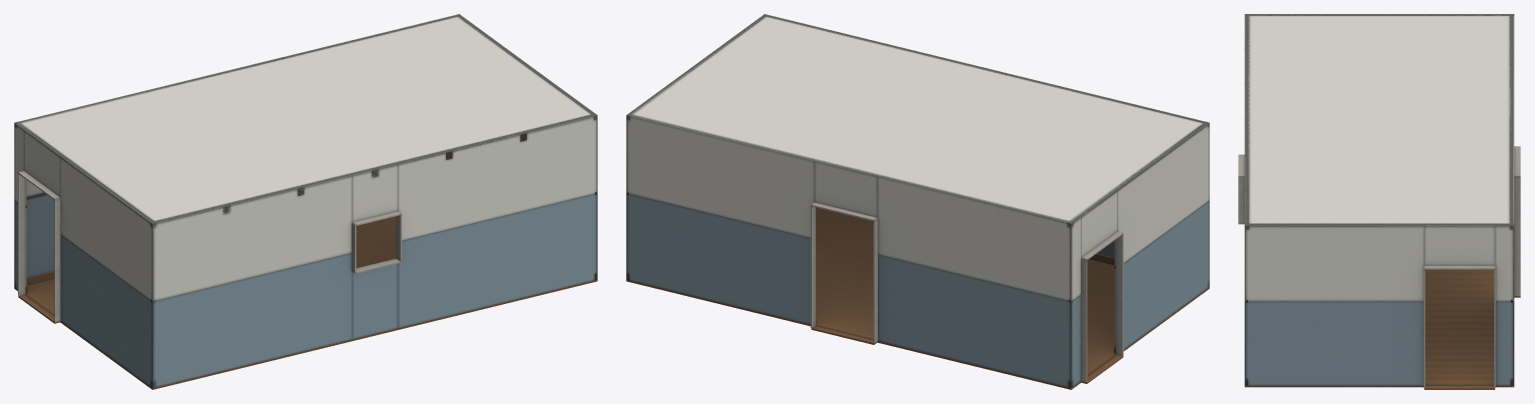
The model's file is house_int_corridor.glb.
The picture shows the model from 3 angles, left to right: view 1: azimuth 30°, elevation 25°; view 2: azimuth 150°, elevation 25°; view 3: azimuth 270°, elevation 25°; orthographic projection. The views are drawn at different scales.
Visible parts, largest first — view 1: house_int_corridor; view 2: house_int_corridor; view 3: house_int_corridor.
Part boxes in pixels (box(x1,y1,x2,y2)): house_int_corridor: box(14, 14, 597, 389); house_int_corridor: box(626, 14, 1209, 389); house_int_corridor: box(1238, 14, 1520, 389).
Size of the model in its own units: 8 by 2.78 by 4.4.
1 material, 1 textured.
